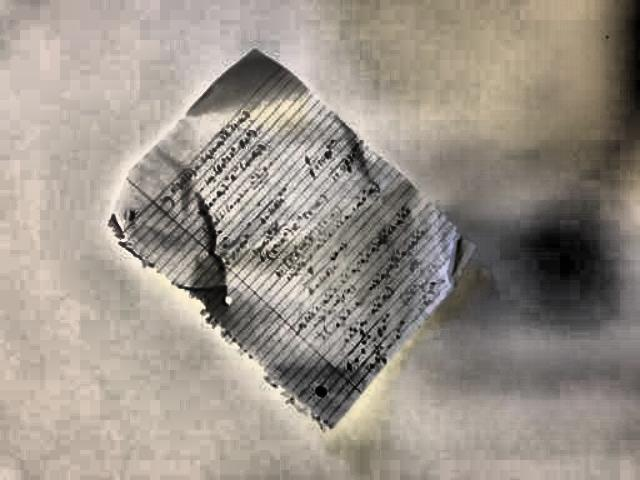Paper: (93, 39, 486, 421)
